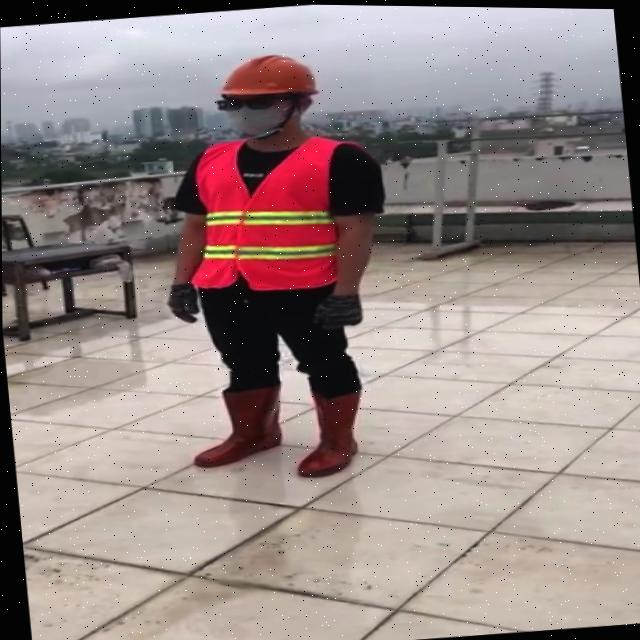goggles_on: (214, 92, 310, 115)
